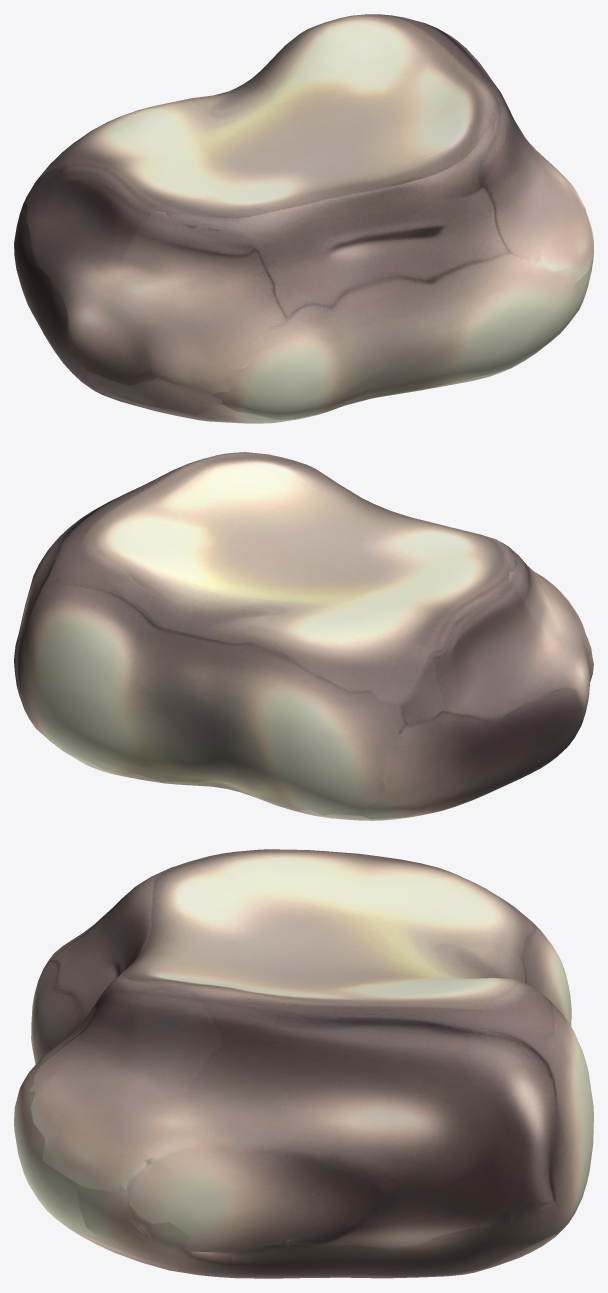
File: platinum.glb
3 views of the same model, one above another, from view 1: azimuth 30°, elevation 25°; view 2: azimuth 150°, elevation 25°; view 3: azimuth 270°, elevation 25° (orthographic). The views are drawn at different scales.
Visible parts, largest first — view 1: platinum; view 2: platinum; view 3: platinum.
Part boxes in pixels (box(x1,y1,x2,y2)): platinum: box(14, 14, 593, 423); platinum: box(14, 452, 593, 820); platinum: box(14, 849, 593, 1278).
Size of the model in its own units: 1 by 0.4327 by 0.8683.
Materials: 1 (1 with a texture image).
